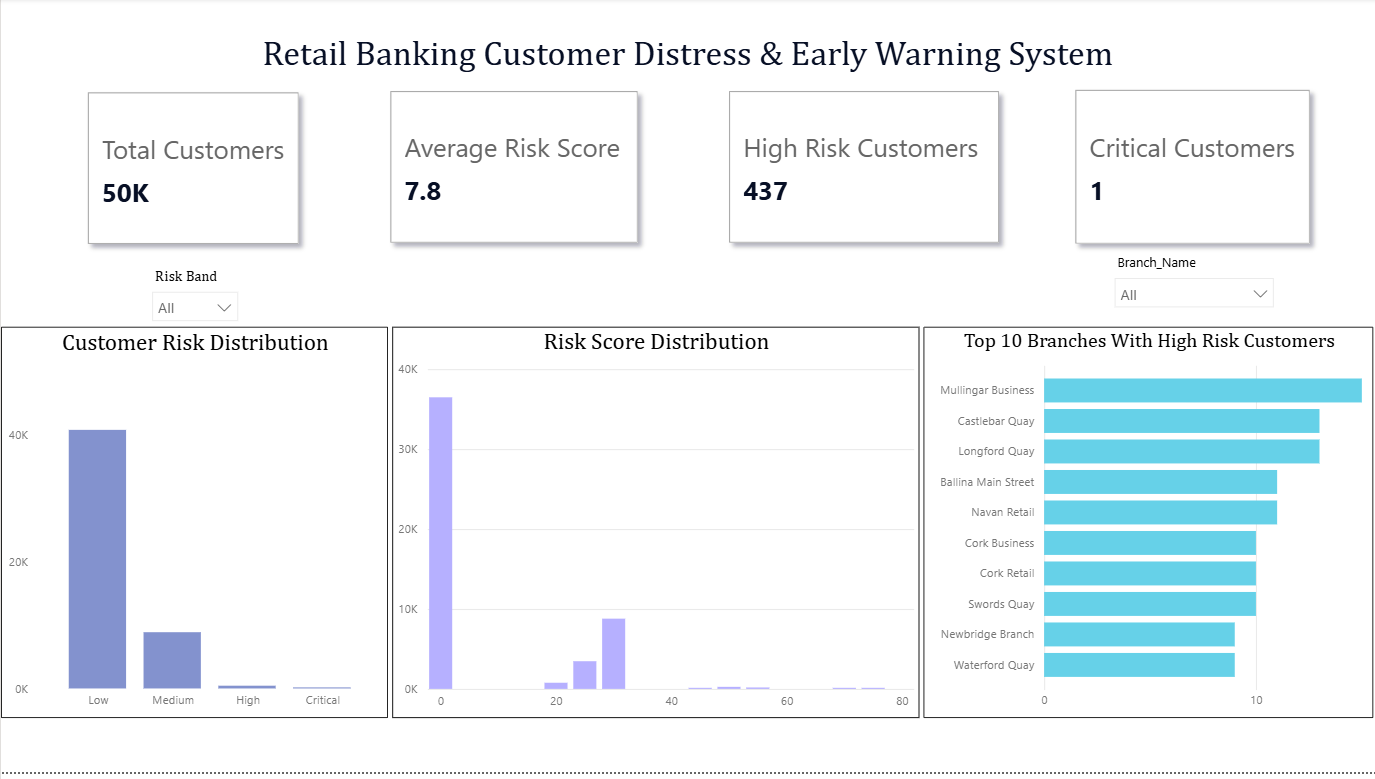

The dashboard page shown, as its layout file describes it:
{"tool":"powerbi","page":{"name":"Retail Banking Customer Distress & Early Warning System","canvas":[1280,720],"ordinal":0},"visuals":[{"type":"cardVisual","fields":{"Data":["irish_retail_bank_customer_distress_profile.Total Customers"]},"box":[64.3,71.4,230,175.7],"z":1},{"type":"cardVisual","fields":{"Data":["irish_retail_bank_customer_distress_profile.Average Risk Score"]},"box":[345.7,70,264.3,175.7],"z":2},{"type":"cardVisual","fields":{"Data":["irish_retail_bank_customer_distress_profile.High Risk Customers"]},"box":[660,70,285.7,175.7],"z":3},{"type":"cardVisual","fields":{"Data":["irish_retail_bank_customer_distress_profile.Critical Customers"]},"box":[982.9,68.6,252.9,177.1],"z":4},{"type":"clusteredColumnChart","title":"Customer Risk Distribution","fields":{"Category":["irish_retail_bank_customer_distress_profile.risk_band"],"Y":["Count(irish_retail_bank_customer_distress_profile.customer_id)"]},"box":[0,305.7,360,364.3],"z":5},{"type":"columnChart","title":"Risk Score Distribution","fields":{"Category":["irish_retail_bank_customer_distress_profile.risk_score"],"Y":["Count(irish_retail_bank_customer_distress_profile.customer_id)"]},"box":[364.3,305.7,490,364.3],"z":6},{"type":"barChart","title":"Top 10 Branches With High Risk Customers","fields":{"Category":["irish_retail_bank_customer_distress_profile.Branch_Name"],"Y":["irish_retail_bank_customer_distress_profile.High Risk Customers By Branch"]},"box":[858.6,305.7,418.6,364.3],"z":7},{"type":"textbox","box":[20,27.1,1238.6,58.6],"z":8},{"type":"slicer","fields":{"Values":["irish_retail_bank_customer_distress_profile.risk_band"]},"box":[130,245.7,100,112.9],"z":9},{"type":"slicer","fields":{"Values":["irish_retail_bank_customer_distress_profile.Branch_Name"]},"box":[1025.7,232.9,168.6,72.9],"z":10}]}

Visuals, with their boxes in screenshot pixels (x1, y1, x2, y2), scaled from the page's 1280x720 canvas onto the 1375x779 screenshot:
cardVisual - irish_retail_bank_customer_distress_profile.Total Customers: [x1=69, y1=77, x2=316, y2=267]
cardVisual - irish_retail_bank_customer_distress_profile.Average Risk Score: [x1=371, y1=76, x2=655, y2=266]
cardVisual - irish_retail_bank_customer_distress_profile.High Risk Customers: [x1=709, y1=76, x2=1016, y2=266]
cardVisual - irish_retail_bank_customer_distress_profile.Critical Customers: [x1=1056, y1=74, x2=1328, y2=266]
"Customer Risk Distribution" clusteredColumnChart: [x1=0, y1=331, x2=387, y2=725]
"Risk Score Distribution" columnChart: [x1=391, y1=331, x2=918, y2=725]
"Top 10 Branches With High Risk Customers" barChart: [x1=922, y1=331, x2=1372, y2=725]
textbox: [x1=21, y1=29, x2=1352, y2=93]
slicer - irish_retail_bank_customer_distress_profile.risk_band: [x1=140, y1=266, x2=247, y2=388]
slicer - irish_retail_bank_customer_distress_profile.Branch_Name: [x1=1102, y1=252, x2=1283, y2=331]
